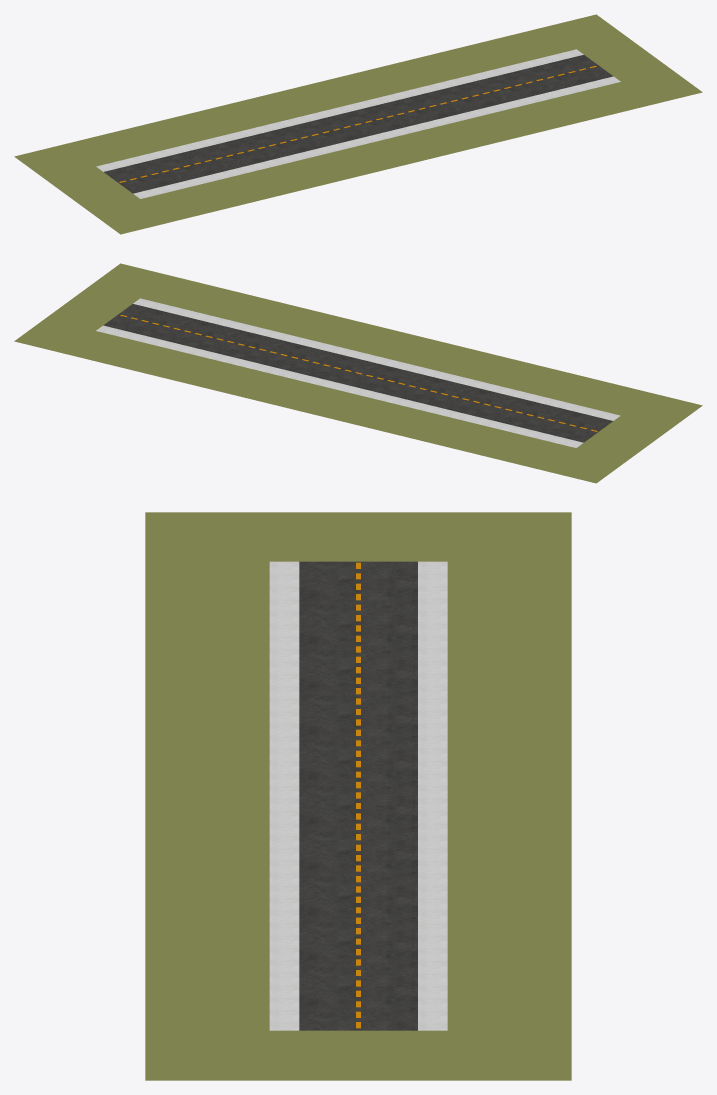
Rendered from Straight_track.dae.
The picture shows the model from 3 angles, top to bottom: view 1: azimuth 30°, elevation 25°; view 2: azimuth 150°, elevation 25°; view 3: azimuth 270°, elevation 25°; orthographic projection. The views are drawn at different scales.
Parts seen in each view (by area): view 1: field, road_clean, border_outer, border_inner, centerline_clean; view 2: field, road_clean, border_outer, border_inner, centerline_clean; view 3: field, road_clean, border_inner, border_outer, centerline_clean.
Part boxes in pixels (x1,y1,x2,y2): field: [14, 14, 702, 234]; road_clean: [104, 55, 613, 193]; border_outer: [96, 49, 583, 171]; border_inner: [133, 76, 620, 198]; centerline_clean: [119, 66, 596, 182]; field: [14, 263, 702, 483]; road_clean: [103, 304, 612, 442]; border_outer: [96, 325, 583, 447]; border_inner: [133, 298, 620, 420]; centerline_clean: [120, 314, 597, 431]; field: [145, 512, 571, 1080]; road_clean: [299, 561, 417, 1030]; border_inner: [269, 561, 299, 1030]; border_outer: [418, 561, 447, 1030]; centerline_clean: [356, 562, 360, 1028].
Bounding box in the file's own units: 6.92 × 2.19 × 0.00292.
5 materials, 5 textured.
